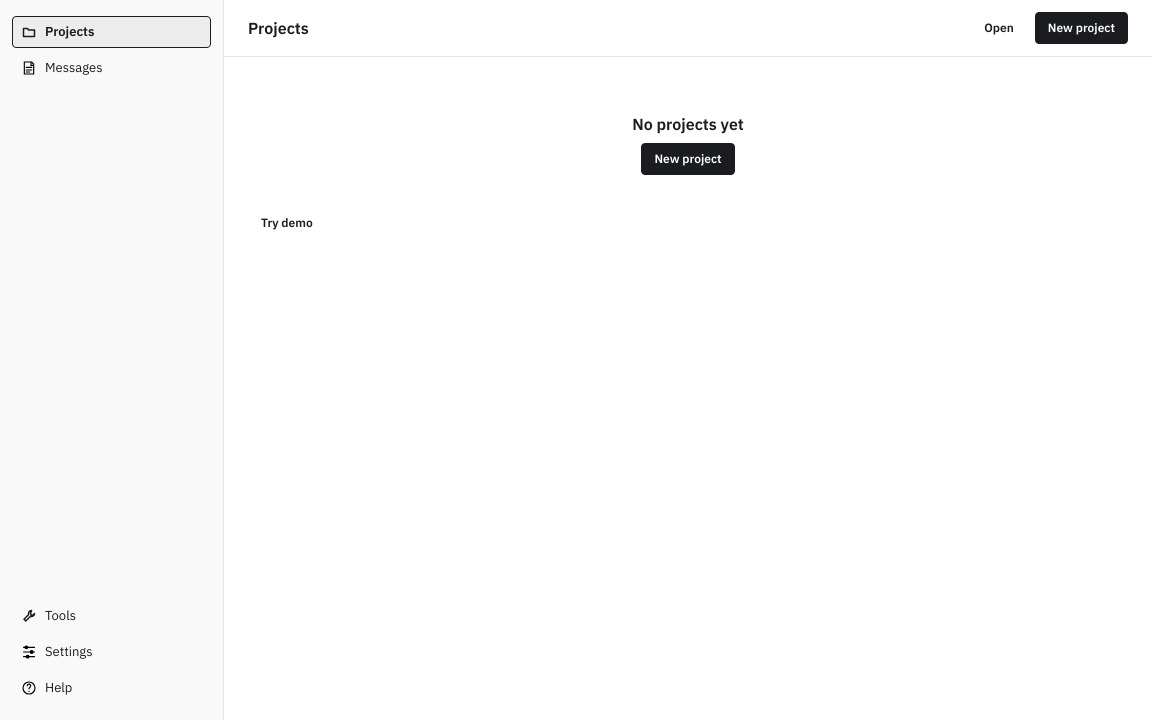
Scenario: the window draws every region the facade declares and its privacy disclosure as given
Check: the navigation bar named "Main" is shown, box x1=0 y1=0 x2=224 y2=719
Check: the element named "Navigation" is shown, box x1=0 y1=0 x2=223 y2=719
Click the button "Help".
click(112, 688)  # box x1=12 y1=672 x2=211 y2=704
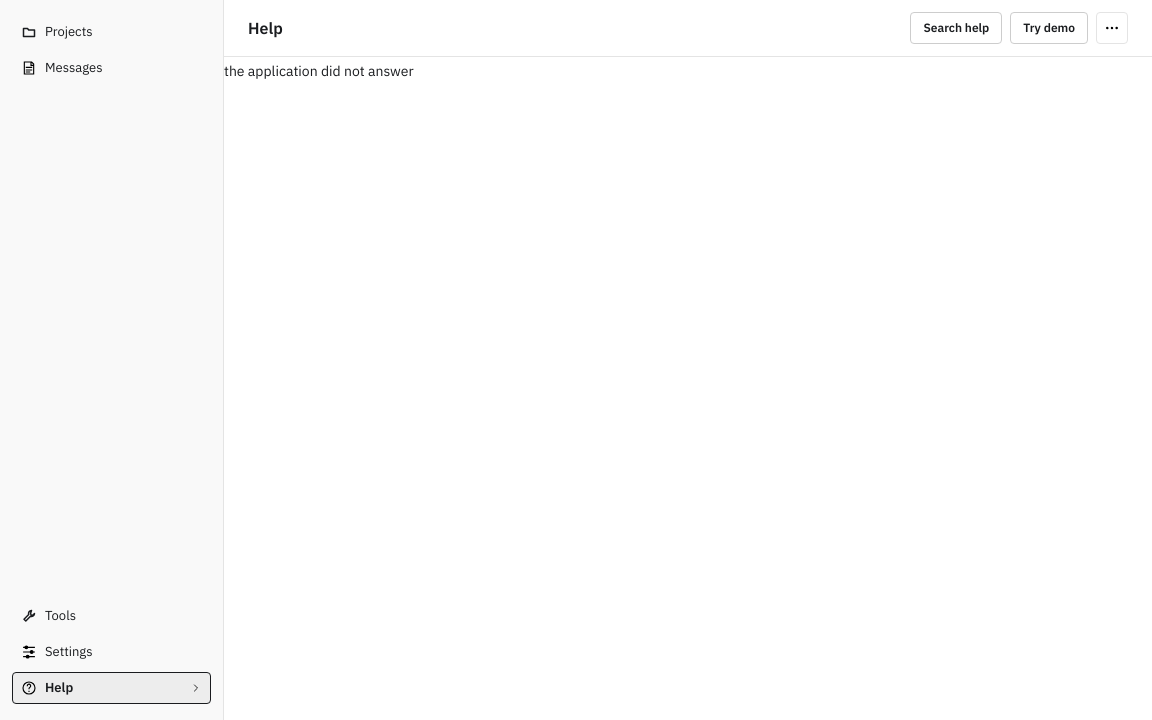
Click the button named "More help actions".
click(1112, 28)  # box x1=1096 y1=12 x2=1128 y2=44
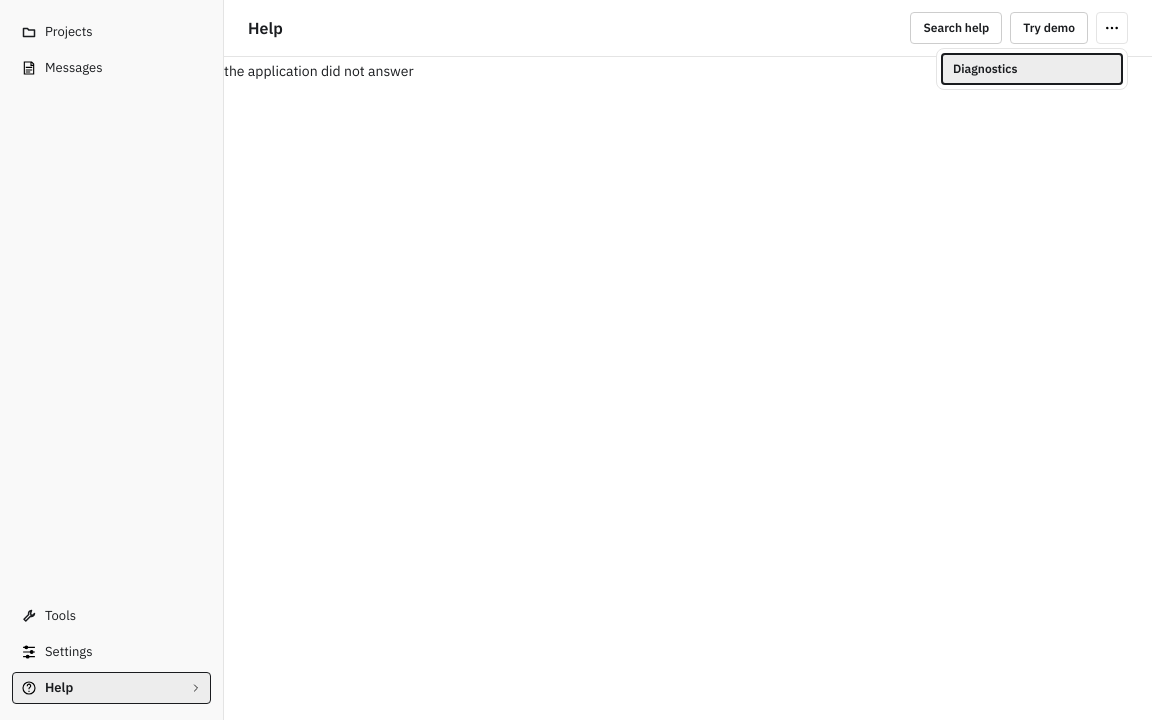
Click the menu item "Diagnostics".
click(1032, 69)  # box x1=941 y1=53 x2=1123 y2=85
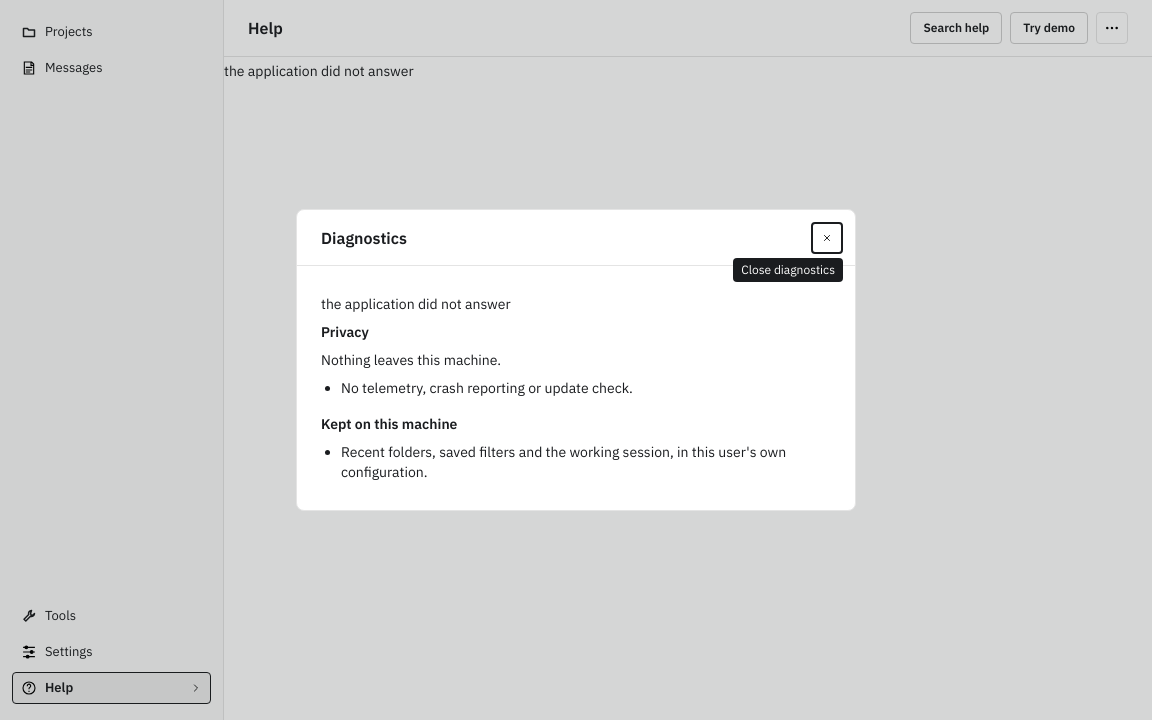
Check: the list item "No telemetry, crash reporting or update check." is shown, box x1=341 y1=379 x2=633 y2=397
Check: the list item "Recent folders, saved filters and the working session, in this user's own configuration." is shown, box x1=341 y1=443 x2=786 y2=481
